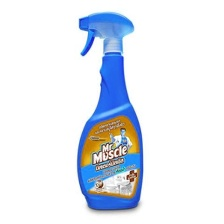cleaning_solution: (73, 9, 145, 212)
